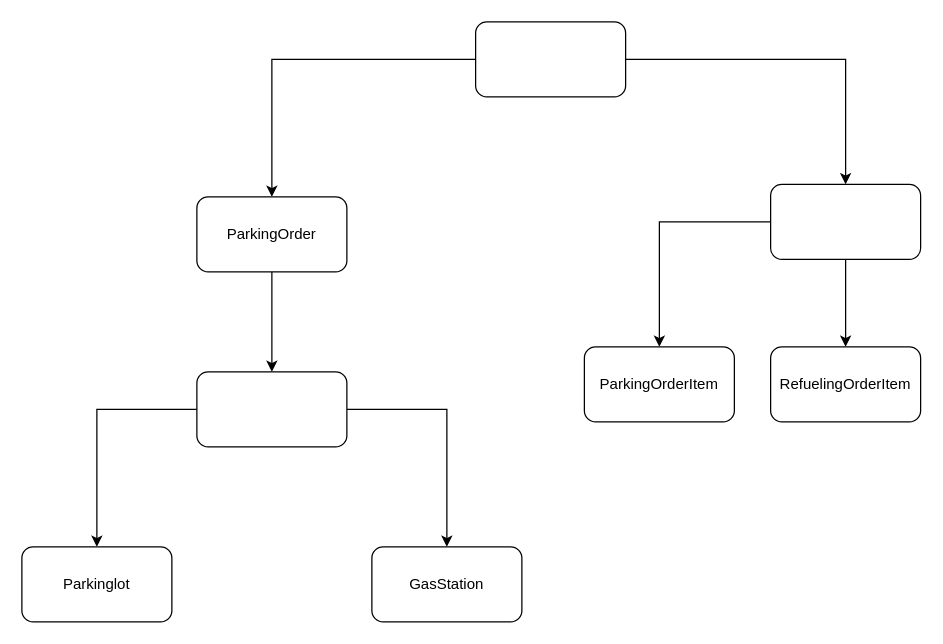
This 943x644 diagram has some shape labels left out. The shapes that lost their labels are listed below. From the top down, each one's centre as x and y in pixels, then its label:
At point 550,59: "Order".
At point 845,221: "OrderItem".
At point 271,409: "ParkingRecord".
